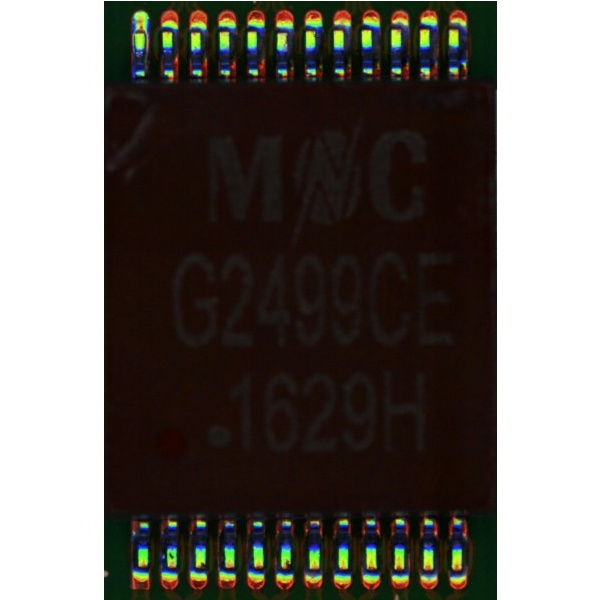Bad_podu: (135, 22, 143, 38)
Bad_qiaojiao: (144, 31, 148, 67)
